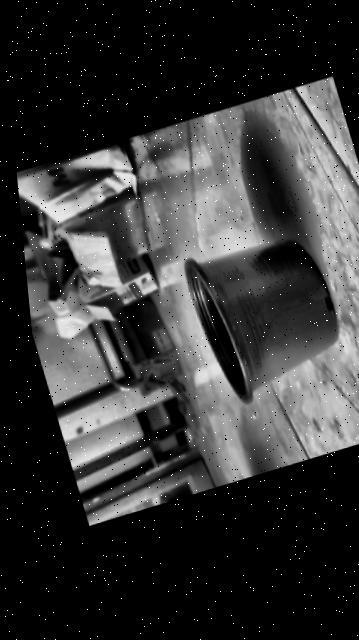pot: (177, 220, 352, 413)
